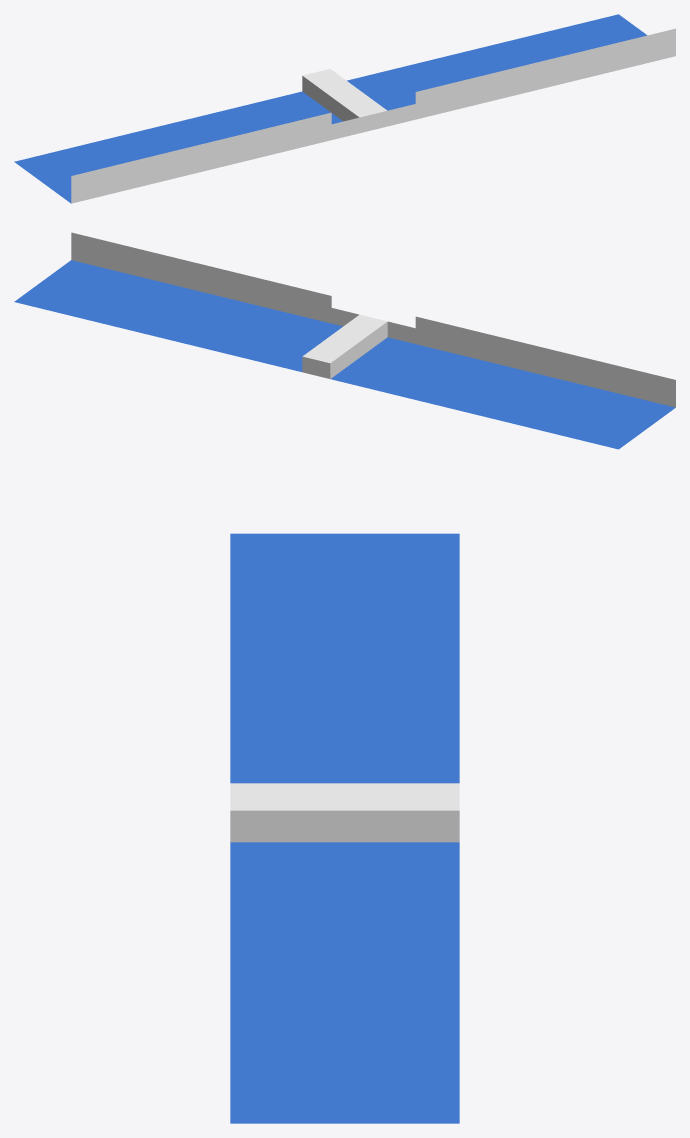
The model's file is RoadHolesCenterBoard.fbx.
3 renders of one model, top to bottom at view 1: azimuth 30°, elevation 25°; view 2: azimuth 150°, elevation 25°; view 3: azimuth 270°, elevation 25°, orthographic. The views are drawn at different scales.
Parts seen in each view (by area): view 1: RoadHolesCenterBoad; view 2: RoadHolesCenterBoad; view 3: RoadHolesCenterBoad.
Part boxes in pixels (<box>): RoadHolesCenterBoad: <box>14,14,675,203</box>; RoadHolesCenterBoad: <box>14,232,675,449</box>; RoadHolesCenterBoad: <box>230,533,459,1123</box>.
Bounding box in the file's own units: 3902 × 170 × 640.
